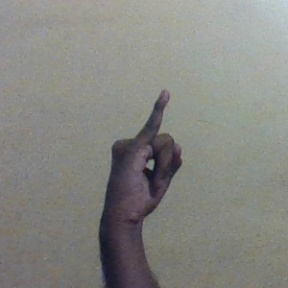I: (100, 85, 187, 229)
